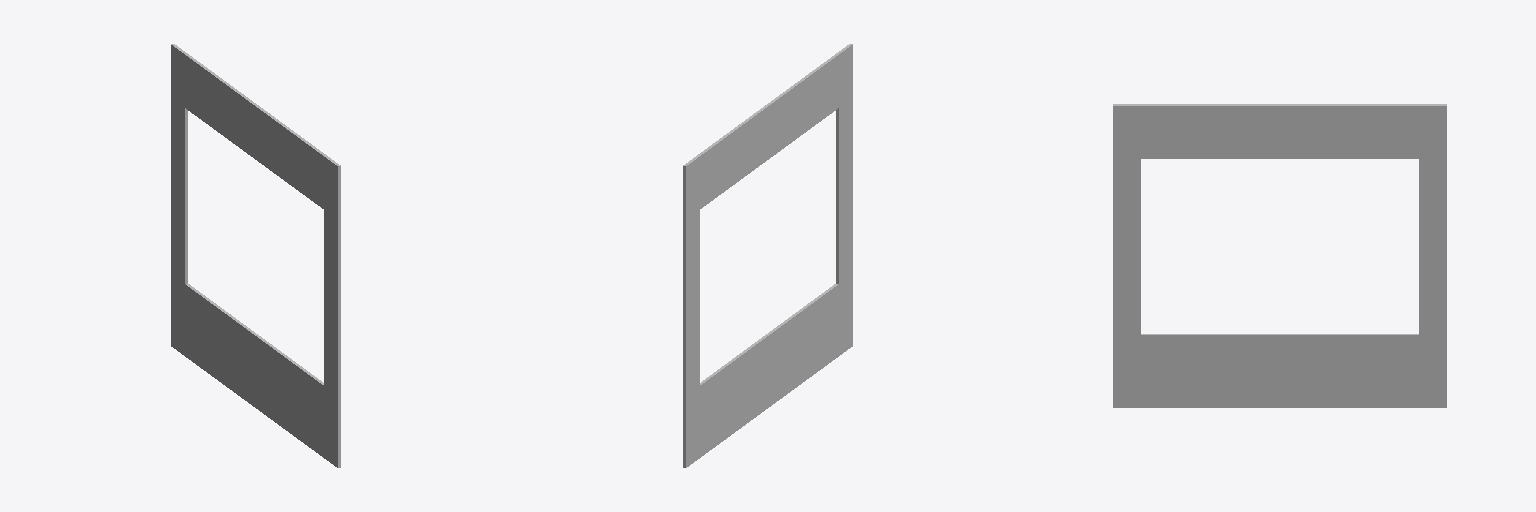
File: pared habita con hueco ventana.obj
3 renders of one model, left to right at view 1: azimuth 30°, elevation 25°; view 2: azimuth 150°, elevation 25°; view 3: azimuth 270°, elevation 25°, orthographic.
Visible parts, largest first — view 1: object 1; view 2: object 1; view 3: object 1.
Boxes of the visible parts, box(x1,y1,x2,y2) form: object 1: box(171, 44, 340, 467); object 1: box(683, 44, 852, 467); object 1: box(1113, 104, 1446, 407).
Bounding box in the file's own units: 0.1 × 9.6 × 9.6.